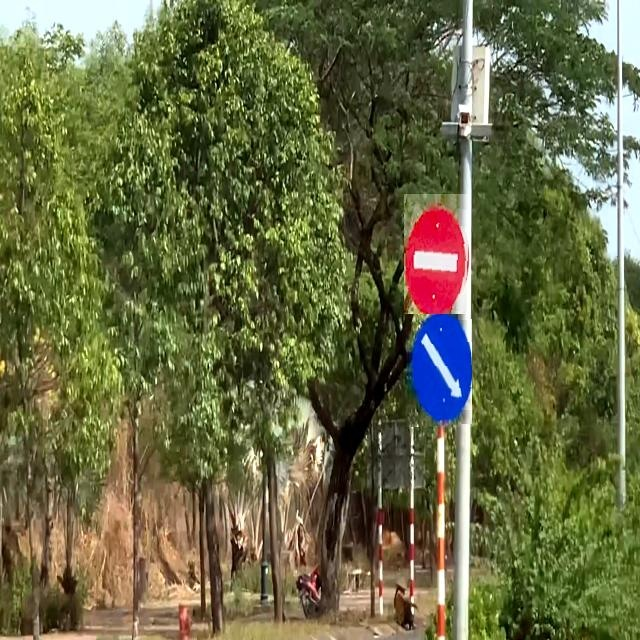bien_hieu_lenh: (404, 194, 471, 314), (406, 311, 472, 427)
